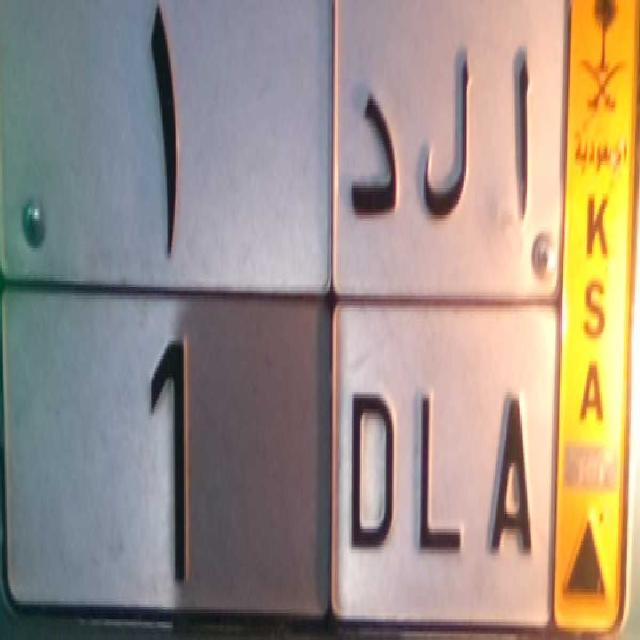license_plate: (2, 277, 556, 640)
